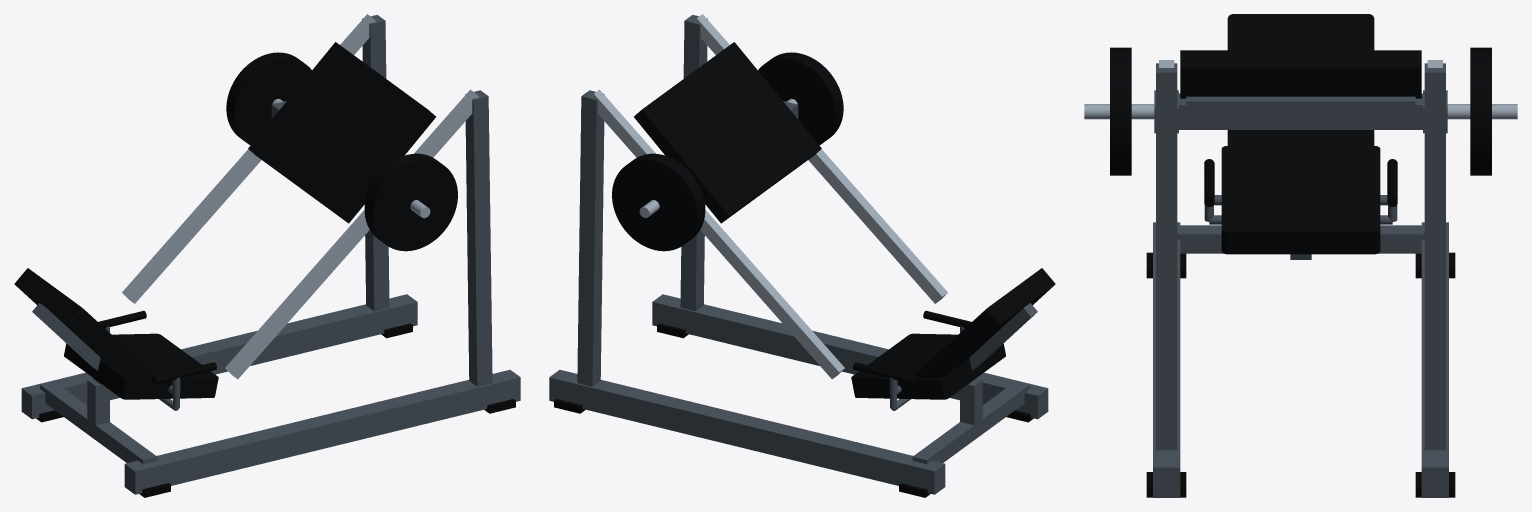
File: cad_leg_press.glb
The picture shows the model from 3 angles, left to right: view 1: azimuth 30°, elevation 25°; view 2: azimuth 150°, elevation 25°; view 3: azimuth 270°, elevation 25°; orthographic projection. The views are drawn at different scales.
Parts seen in each view (by area): view 1: 016_Inclined sled footplate, 005_Leg press base rail, 000_Leg press base rail, 009_Rear support post, 023_Sled weight plate, 008_Inclined press rail, 013_Reclined seat base, 022_Sled weight plate, 003_Inclined press rail, 014_Backrest, 004_Rear support post, 010_Leg press seat base crossmember (+3 smaller); view 2: 016_Inclined sled footplate, 000_Leg press base rail, 005_Leg press base rail, 004_Rear support post, 022_Sled weight plate, 003_Inclined press rail, 013_Reclined seat base, 023_Sled weight plate, 008_Inclined press rail, 014_Backrest, 009_Rear support post, 010_Leg press seat base crossmember (+3 smaller); view 3: 013_Reclined seat base, 014_Backrest, 016_Inclined sled footplate, 004_Rear support post, 009_Rear support post, 017_Sled crossbeam, 018_Footplate mounting saddle, 000_Leg press base rail, 005_Leg press base rail, 022_Sled weight plate, 023_Sled weight plate, 010_Leg press seat base crossmember (+3 smaller).
Boxes of the visible parts, <box> form: 016_Inclined sled footplate: <box>248,42,435,223</box>; 005_Leg press base rail: <box>124,370,520,494</box>; 000_Leg press base rail: <box>21,294,417,419</box>; 009_Rear support post: <box>465,90,492,386</box>; 023_Sled weight plate: <box>364,153,457,251</box>; 008_Inclined press rail: <box>225,89,479,379</box>; 013_Reclined seat base: <box>64,333,218,399</box>; 022_Sled weight plate: <box>226,52,311,145</box>; 003_Inclined press rail: <box>122,14,376,303</box>; 014_Backrest: <box>14,268,156,378</box>; 004_Rear support post: <box>362,15,389,311</box>; 010_Leg press seat base crossmember: <box>40,381,157,464</box>; 016_Inclined sled footplate: <box>634,42,821,223</box>; 000_Leg press base rail: <box>549,370,945,494</box>; 005_Leg press base rail: <box>652,294,1048,419</box>; 004_Rear support post: <box>577,90,604,386</box>; 022_Sled weight plate: <box>612,153,705,251</box>; 003_Inclined press rail: <box>590,89,844,379</box>; 013_Reclined seat base: <box>851,333,1005,399</box>; 023_Sled weight plate: <box>758,52,843,145</box>; 008_Inclined press rail: <box>693,14,947,303</box>; 014_Backrest: <box>913,268,1055,378</box>; 009_Rear support post: <box>680,15,707,311</box>; 010_Leg press seat base crossmember: <box>912,381,1029,464</box>; 013_Reclined seat base: <box>1221,146,1380,254</box>; 014_Backrest: <box>1227,14,1374,177</box>; 016_Inclined sled footplate: <box>1180,50,1421,98</box>; 004_Rear support post: <box>1424,63,1445,450</box>; 009_Rear support post: <box>1156,63,1177,450</box>; 017_Sled crossbeam: <box>1177,93,1424,129</box>; 018_Footplate mounting saddle: <box>1186,96,1415,108</box>; 000_Leg press base rail: <box>1421,222,1448,497</box>; 005_Leg press base rail: <box>1153,222,1180,497</box>; 022_Sled weight plate: <box>1470,47,1491,175</box>; 023_Sled weight plate: <box>1110,47,1131,175</box>; 010_Leg press seat base crossmember: <box>1177,225,1424,253</box>.
Bounding box in the file's own units: 2.11 × 1.5 × 1.42.
